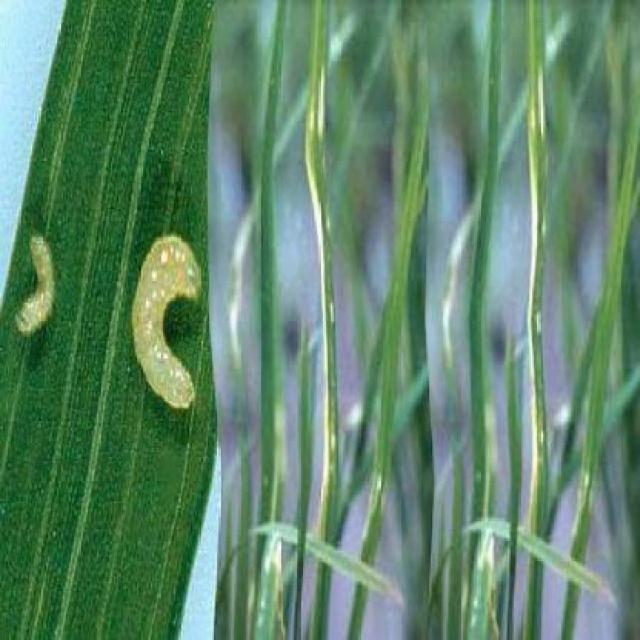whorl-maggot: (121, 214, 207, 423), (12, 226, 60, 348)
